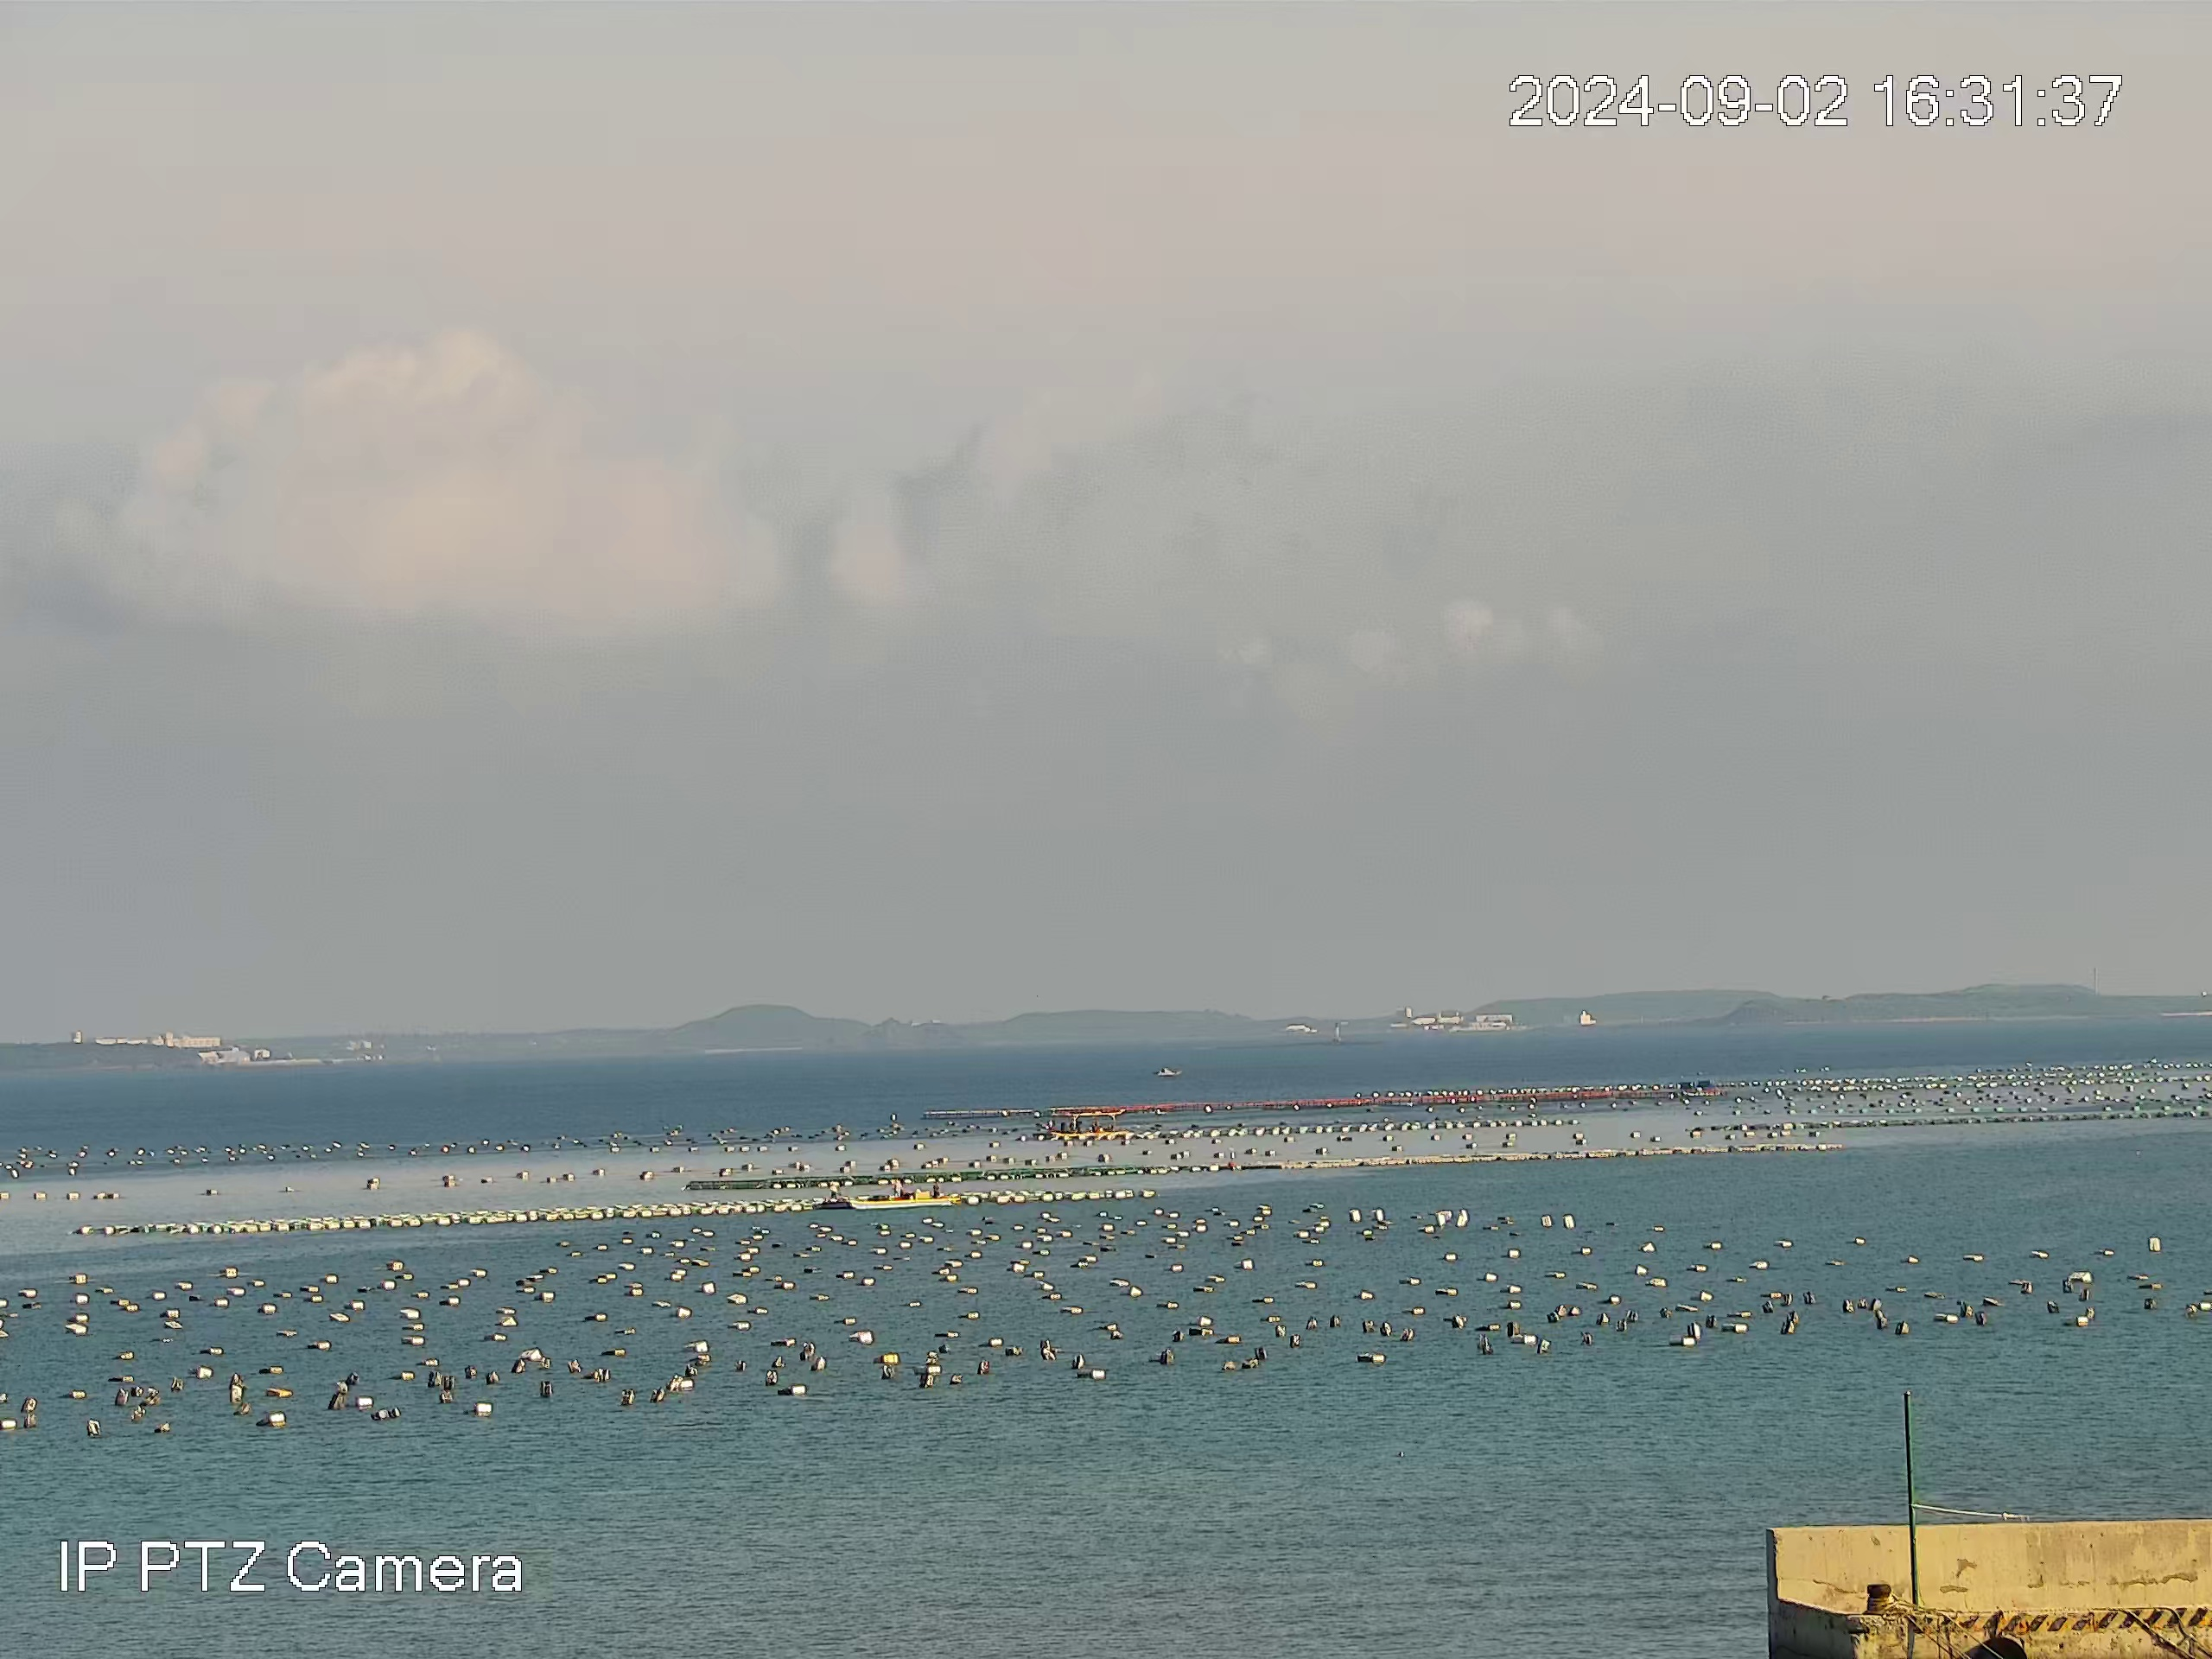boat: (846, 1178, 961, 1211), (1066, 1108, 1129, 1136), (1155, 1065, 1183, 1077)
